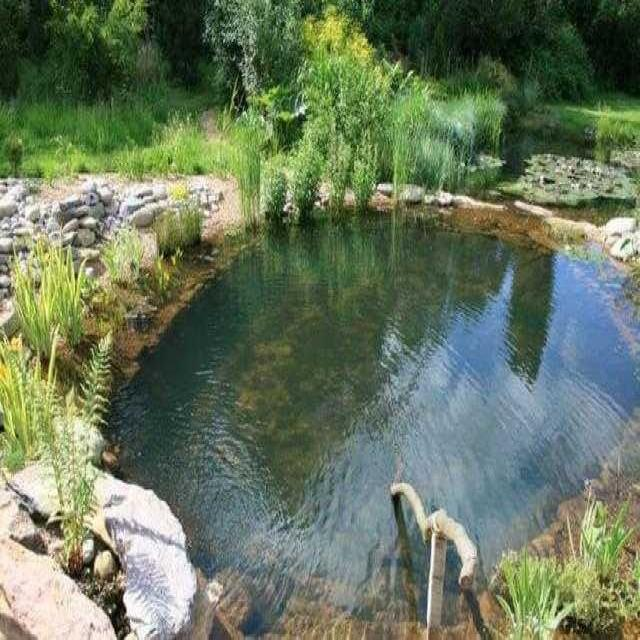Ponds: (50, 185, 640, 640)
